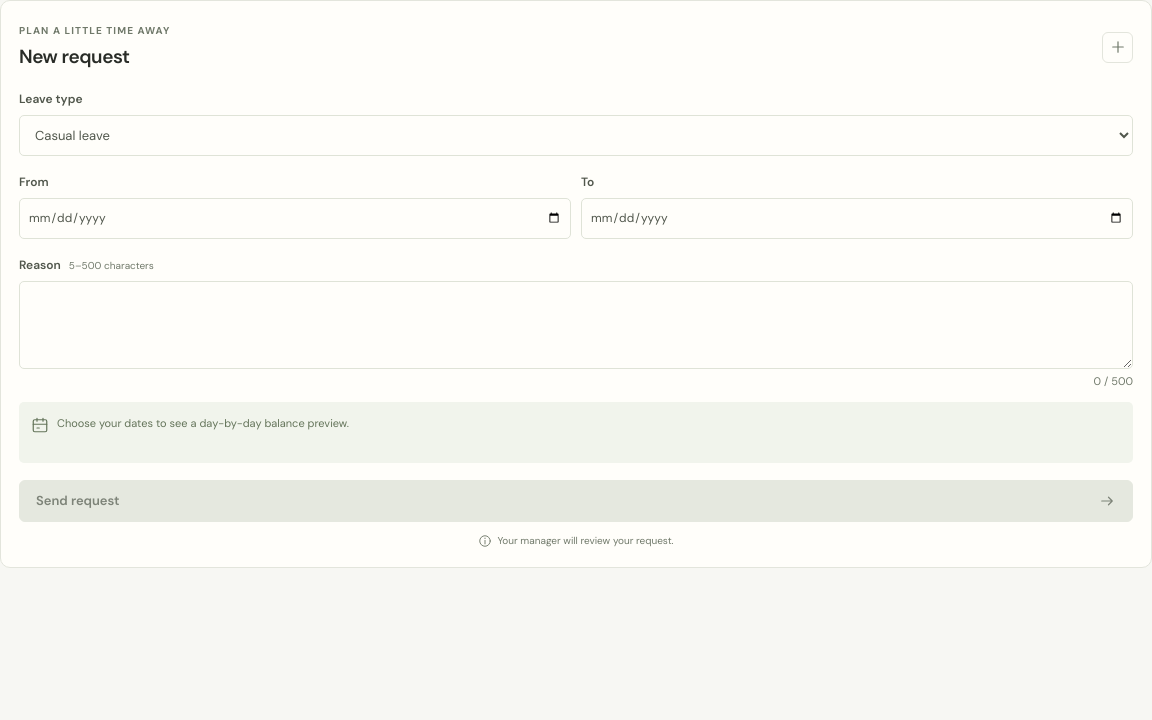
Scenario: ignores stale previews after dates change
Type "2027-09-06" into the date field labelled "From" at (295, 218), box x1=19 y1=198 x2=571 y2=238
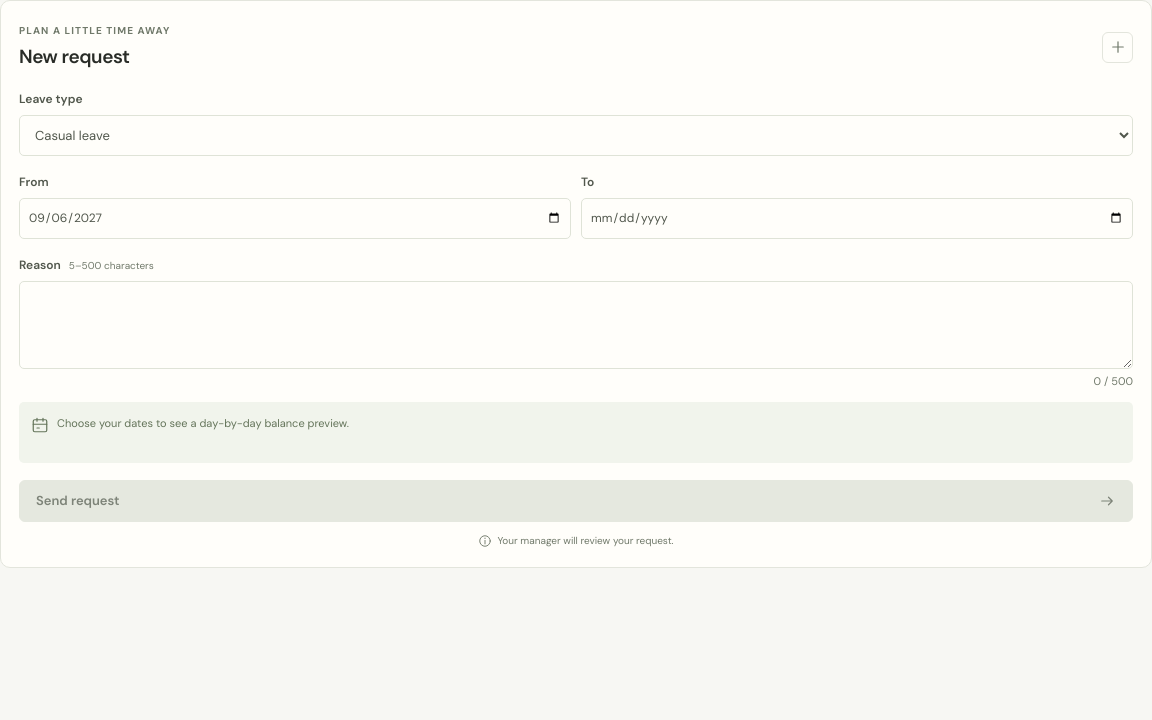
Type "2027-09-08" into the date field labelled "To" at (857, 218), box x1=581 y1=198 x2=1133 y2=238
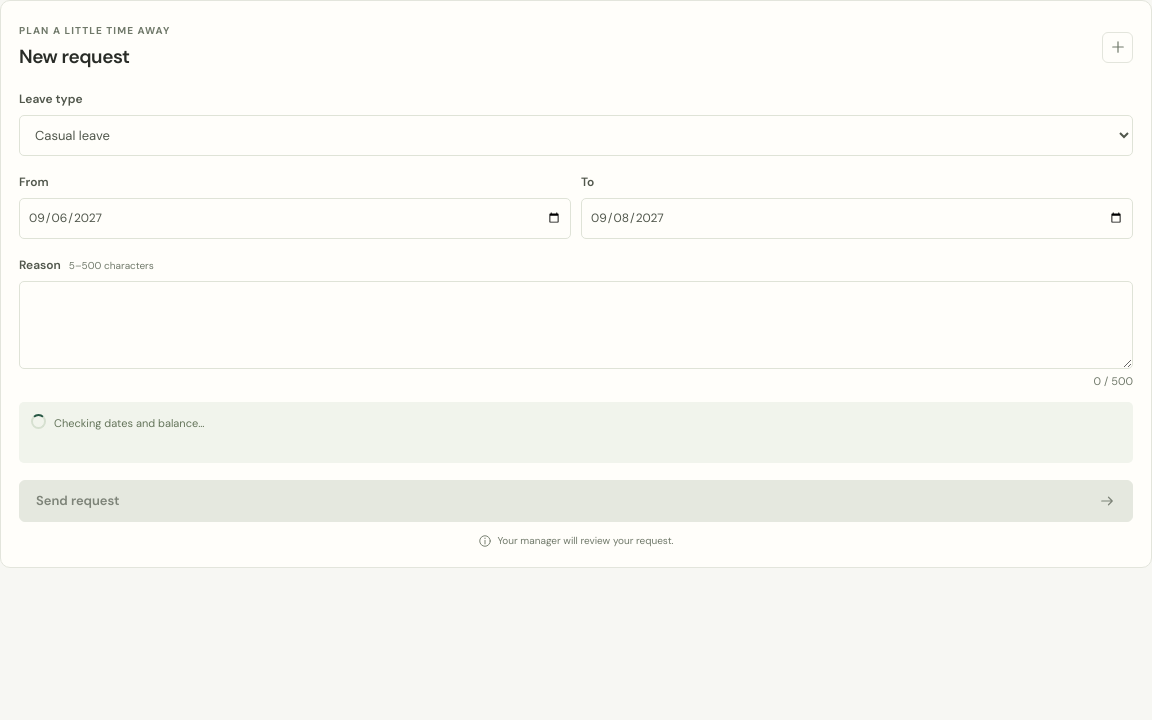
Type "Visiting my family." into the text box labelled "Reason 5–500 characters" at (576, 324), box x1=19 y1=280 x2=1133 y2=368
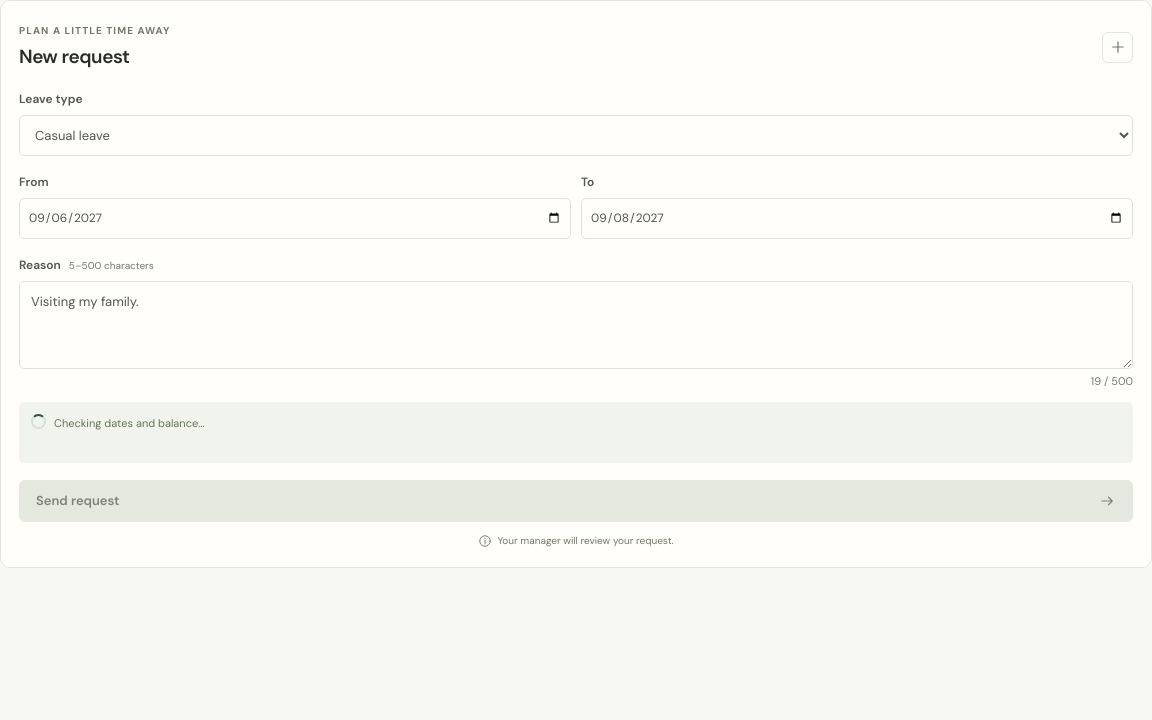
Type "2027-09-09" into the date field labelled "To" at (857, 218), box x1=581 y1=198 x2=1133 y2=238
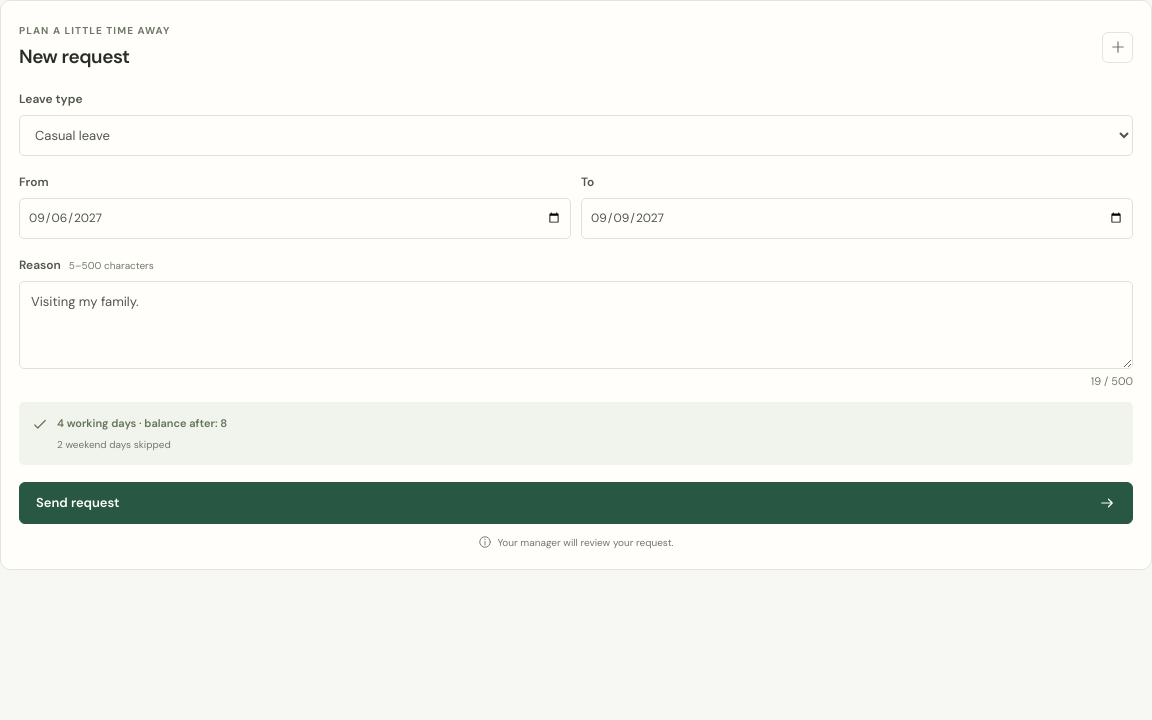
Now the text "4 working days · balance after: 8" is shown, box x1=57 y1=414 x2=227 y2=433
